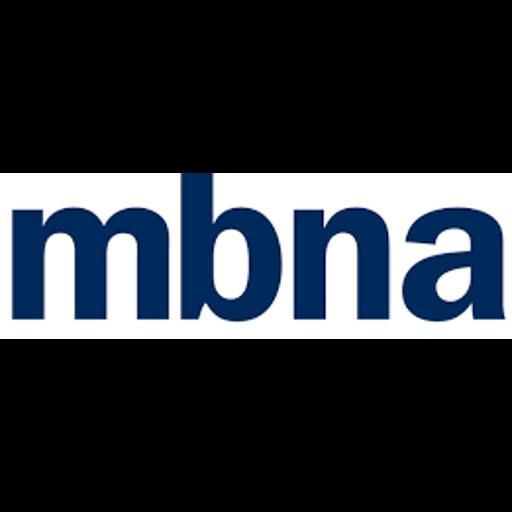MBNA Corportation: (0, 173, 512, 339)
